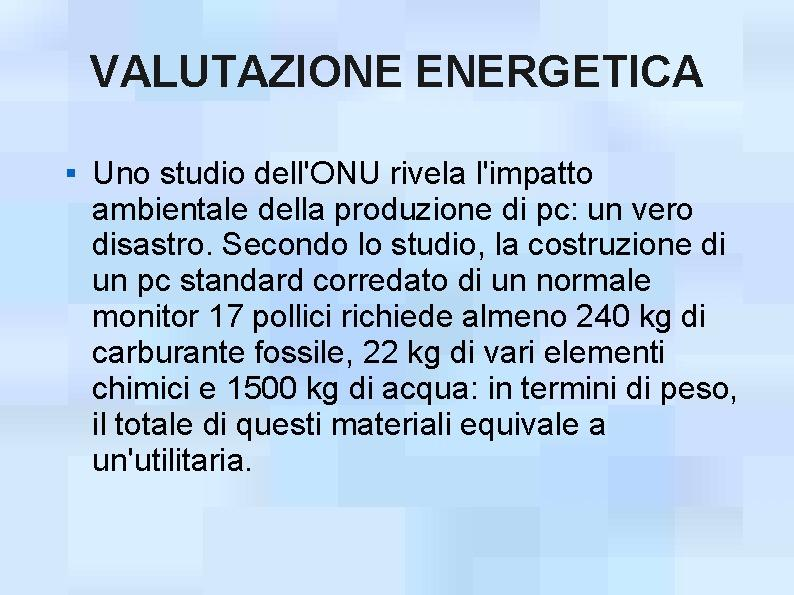paragraph: (75, 142, 765, 502)
title: (85, 41, 726, 114)
